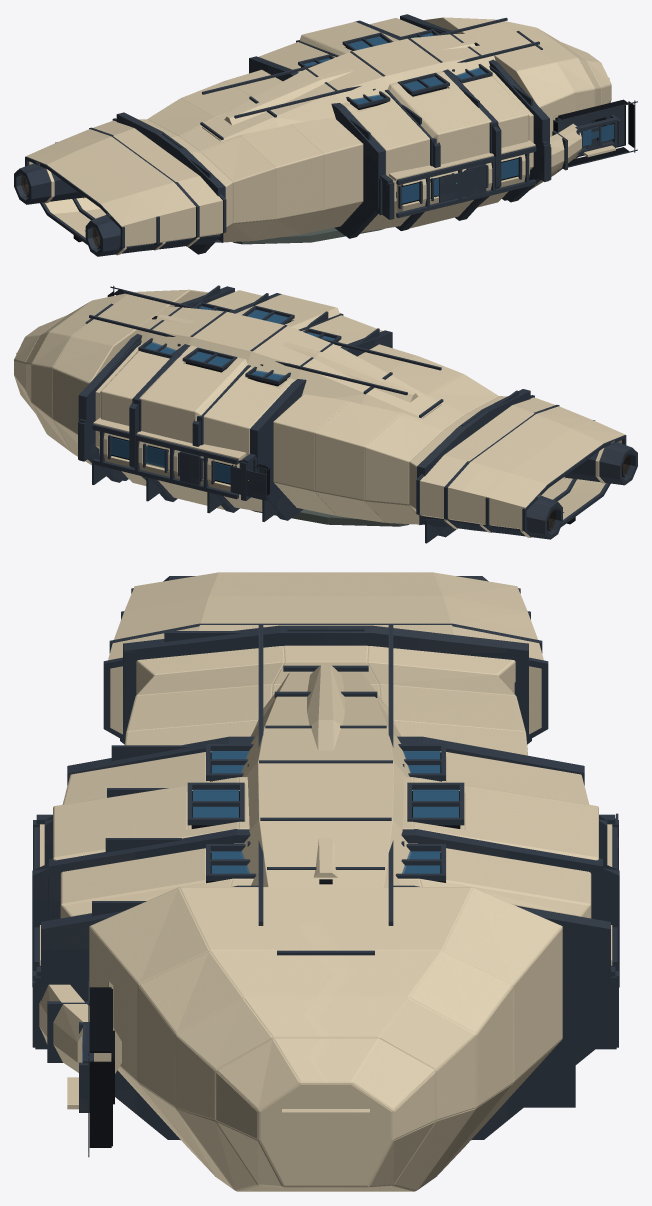
Rendered from massline_express_liner_v1.glb.
The picture shows the model from 3 angles, top to bottom: view 1: azimuth 30°, elevation 25°; view 2: azimuth 150°, elevation 25°; view 3: azimuth 270°, elevation 25°; orthographic projection. The views are drawn at different scales.
Parts seen in each view (by area): view 1: LOD0_Hull_MAT_SF_Massline_CeramicPaint_WarmIvory, LOD0_MAT_SF_Massline_Frame_DarkAnodized, LOD0_MAT_SF_Massline_Glazing_SmokedSafety, LOD0_MAT_SF_Massline_Keel_ForgedDark, LOD0_MAT_SF_Massline_ServicePrimer_Galvanized; view 2: LOD0_Hull_MAT_SF_Massline_CeramicPaint_WarmIvory, LOD0_MAT_SF_Massline_Frame_DarkAnodized, LOD0_MAT_SF_Massline_Glazing_SmokedSafety, LOD0_MAT_SF_Massline_ServicePrimer_Galvanized, LOD0_MAT_SF_Massline_Keel_ForgedDark; view 3: LOD0_Hull_MAT_SF_Massline_CeramicPaint_WarmIvory, LOD0_MAT_SF_Massline_Frame_DarkAnodized, LOD0_MAT_SF_Massline_Glazing_SmokedSafety, LOD0_MAT_SF_Massline_Keel_ForgedDark.
Part boxes in pixels (<box>): LOD0_Hull_MAT_SF_Massline_CeramicPaint_WarmIvory: <box>25,17,615,255</box>; LOD0_MAT_SF_Massline_Frame_DarkAnodized: <box>14,14,637,256</box>; LOD0_MAT_SF_Massline_Glazing_SmokedSafety: <box>304,33,614,203</box>; LOD0_MAT_SF_Massline_Keel_ForgedDark: <box>73,42,634,242</box>; LOD0_MAT_SF_Massline_ServicePrimer_Galvanized: <box>36,162,397,244</box>; LOD0_Hull_MAT_SF_Massline_CeramicPaint_WarmIvory: <box>14,289,625,537</box>; LOD0_MAT_SF_Massline_Frame_DarkAnodized: <box>78,285,637,543</box>; LOD0_MAT_SF_Massline_Glazing_SmokedSafety: <box>111,306,334,483</box>; LOD0_MAT_SF_Massline_ServicePrimer_Galvanized: <box>251,440,614,526</box>; LOD0_MAT_SF_Massline_Keel_ForgedDark: <box>107,289,575,524</box>; LOD0_Hull_MAT_SF_Massline_CeramicPaint_WarmIvory: <box>39,572,612,1191</box>; LOD0_MAT_SF_Massline_Frame_DarkAnodized: <box>32,576,619,1157</box>; LOD0_MAT_SF_Massline_Glazing_SmokedSafety: <box>82,751,458,1062</box>; LOD0_MAT_SF_Massline_Keel_ForgedDark: <box>89,752,618,1147</box>.
Size of what is drawn, in the model's own units: 40.27 by 11.1 by 18.96.
Materials: 9 (9 with a texture image).
